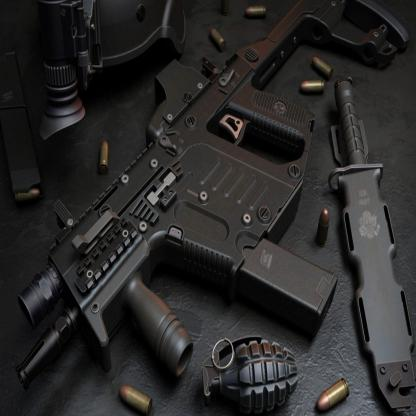Grenade: (201, 335, 299, 415)
Gun: (16, 0, 412, 392)
Knife: (326, 76, 416, 415)
